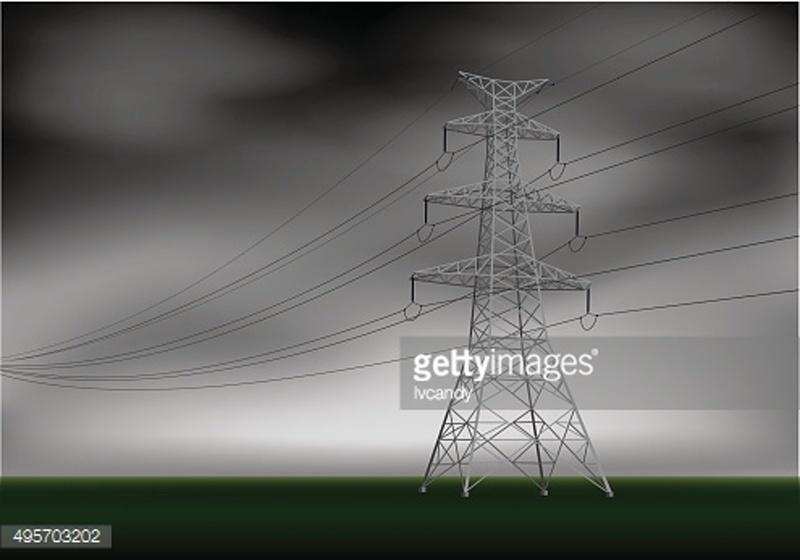power_tower: (402, 69, 614, 500)
